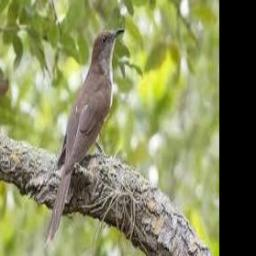Cuckoo: (43, 27, 125, 247)
